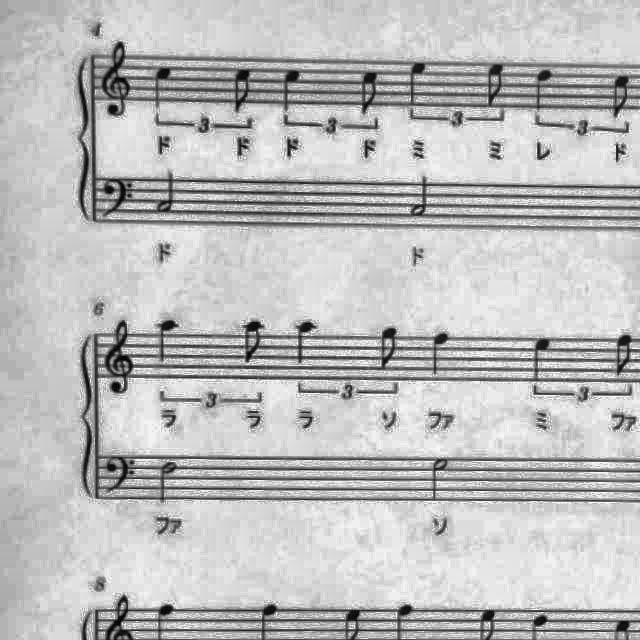Bass-clef: (99, 174, 141, 226), (102, 452, 144, 503)
Eighth-note: (352, 66, 386, 120), (236, 315, 270, 369), (228, 64, 260, 118), (480, 59, 512, 112), (608, 328, 640, 380), (608, 69, 638, 123), (374, 322, 404, 373)
Half-note: (406, 170, 436, 222), (425, 454, 455, 506), (153, 166, 183, 218), (155, 457, 185, 508)
Quarter-note: (524, 330, 558, 386), (290, 316, 324, 368), (154, 314, 186, 368), (401, 58, 434, 110), (424, 328, 456, 380), (526, 64, 558, 116), (149, 61, 179, 116), (276, 64, 306, 116)
Treble-clef: (100, 34, 140, 121), (102, 314, 142, 398)
